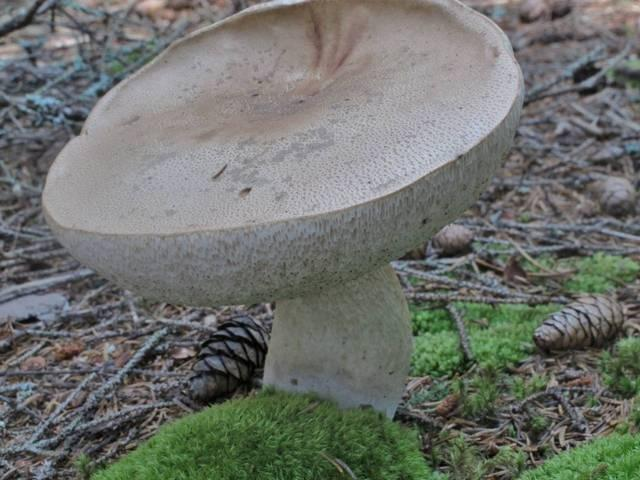Non-edible Mushroom: (40, 0, 526, 421)
